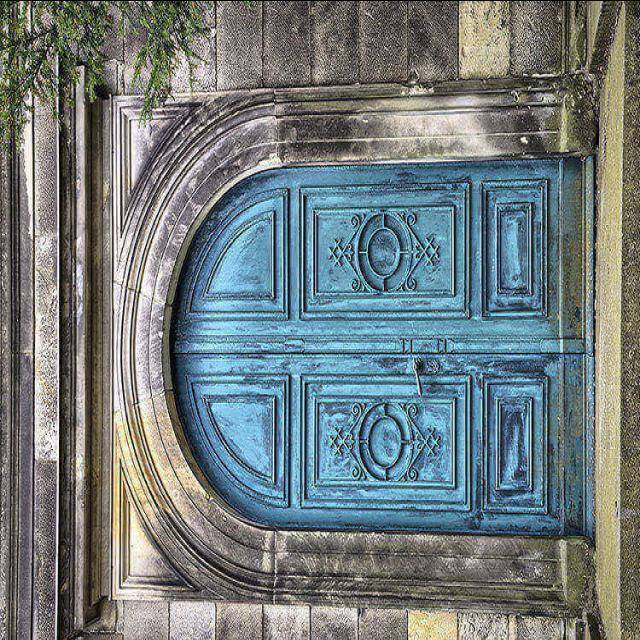close: (291, 182, 591, 526)
